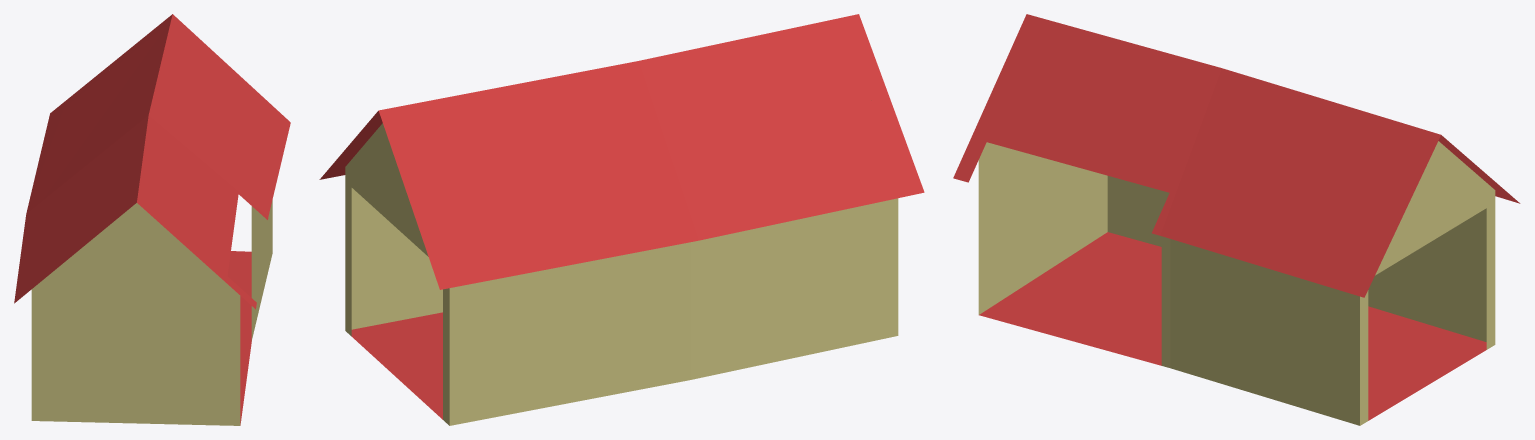
3 views of the same model, side by side, from view 1: azimuth 30°, elevation 25°; view 2: azimuth 150°, elevation 25°; view 3: azimuth 270°, elevation 25° (orthographic). The views are drawn at different scales.
Bounding box in the file's own units: 27.56 × 30.66 × 15.25.
